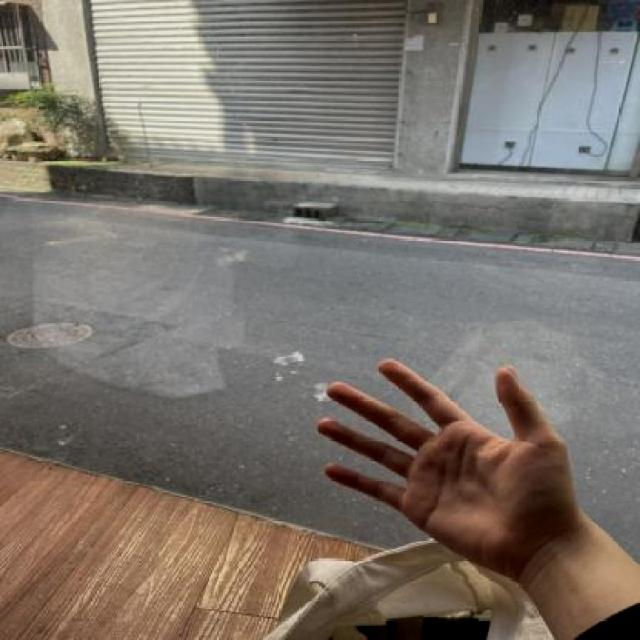no_glove: (306, 343, 597, 588)
